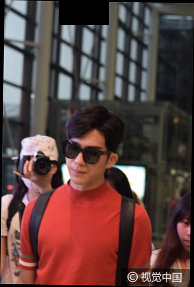without_mask: (65, 138, 108, 185), (177, 215, 191, 251)
